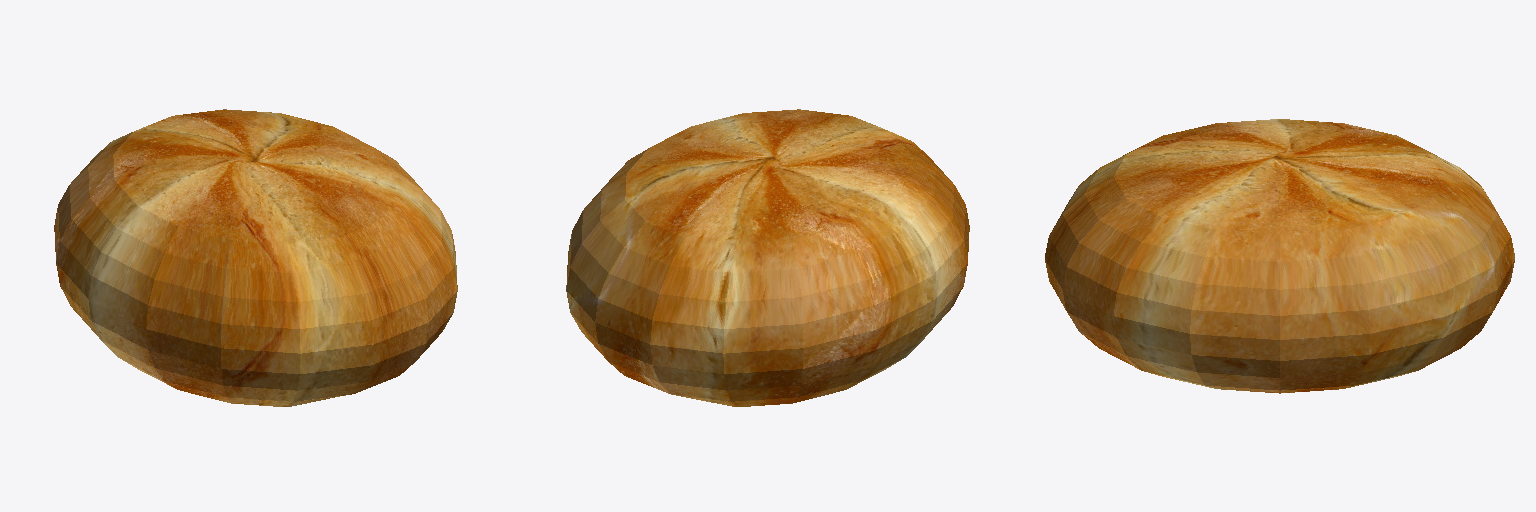
3 views of the same model, side by side, from view 1: azimuth 30°, elevation 25°; view 2: azimuth 150°, elevation 25°; view 3: azimuth 270°, elevation 25° (orthographic).
Parts seen in each view (by area): view 1: Sphere; view 2: Sphere; view 3: Sphere.
Part boxes in pixels (left/top/right/bottom): Sphere: left=54, top=109, right=457, bottom=406; Sphere: left=566, top=109, right=969, bottom=406; Sphere: left=1045, top=119, right=1514, bottom=393.
Bounding box in the file's own units: 0.628 × 0.3483 × 0.7641.
Materials: 1 (1 with a texture image).